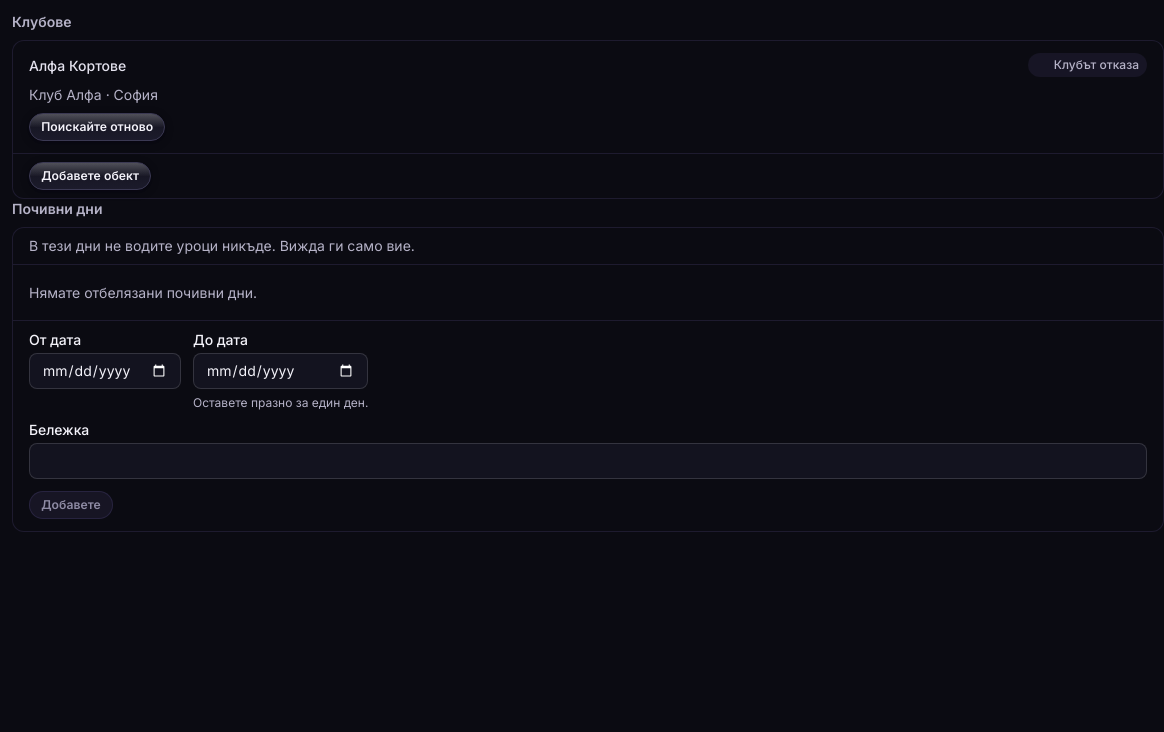
Scenario: the list › asking again sends the venue, and a refusal is said in words
Click the button with test id "coach-venue-again" at [97, 127], box [29,113,165,141]
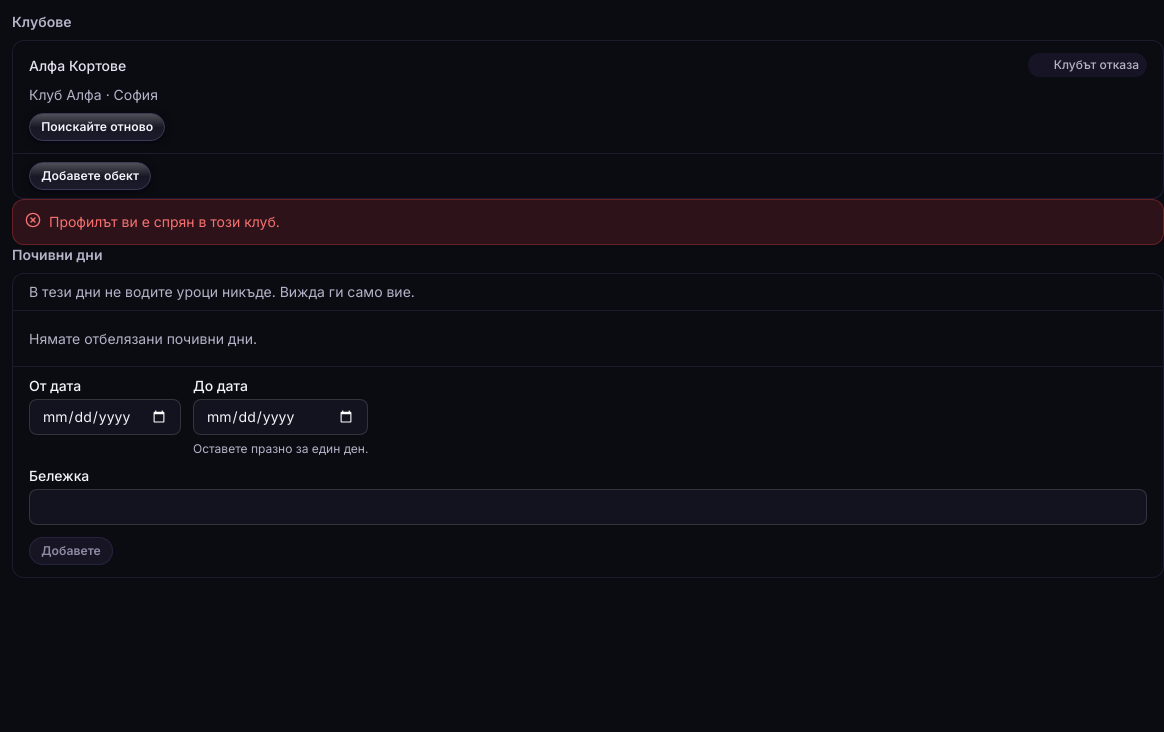
Result: the message with test id "coach-venues-error" reads "Профилът ви е спрян в този клуб." at [49,213,280,230]
